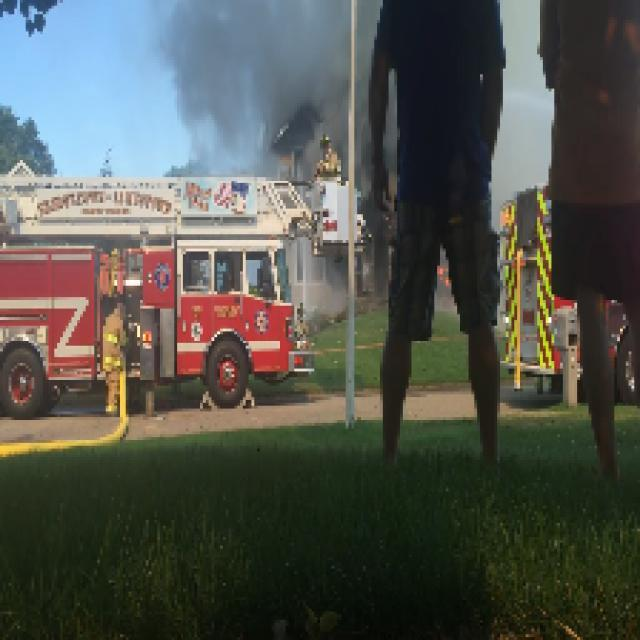Smoke: (148, 2, 543, 192)
